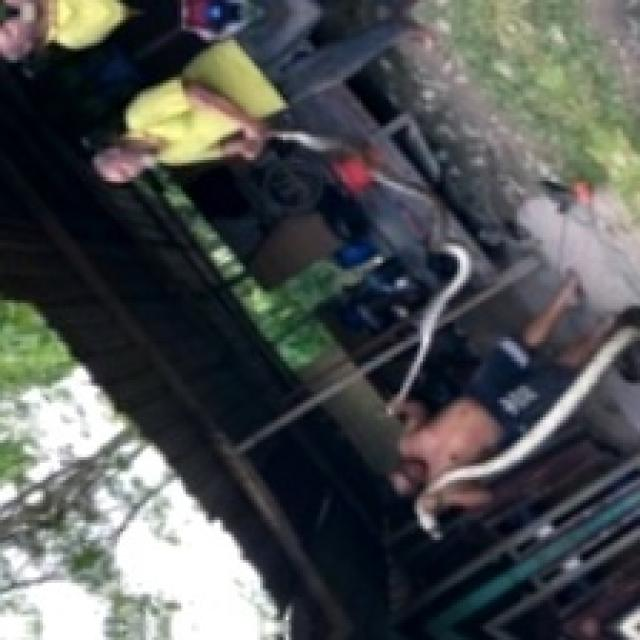reticulated python: (273, 131, 470, 409), (415, 326, 640, 531)
